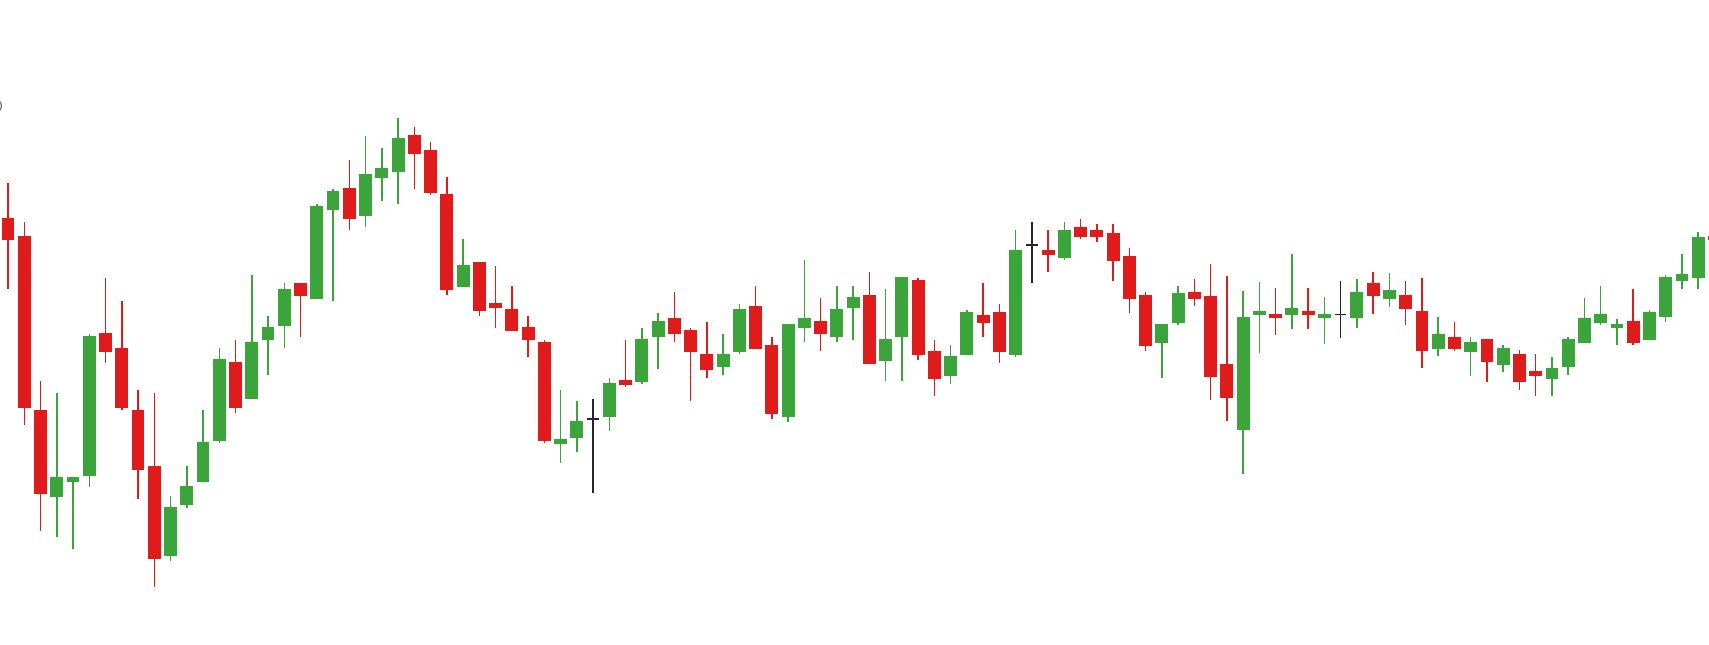buy: (926, 278, 1253, 475), (48, 392, 180, 582), (683, 331, 797, 427)
